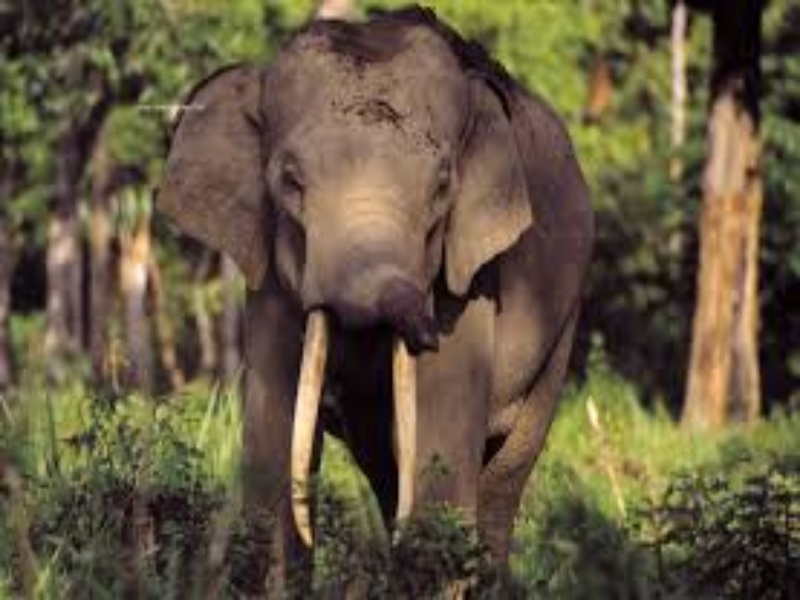elephant: (127, 11, 628, 556)
